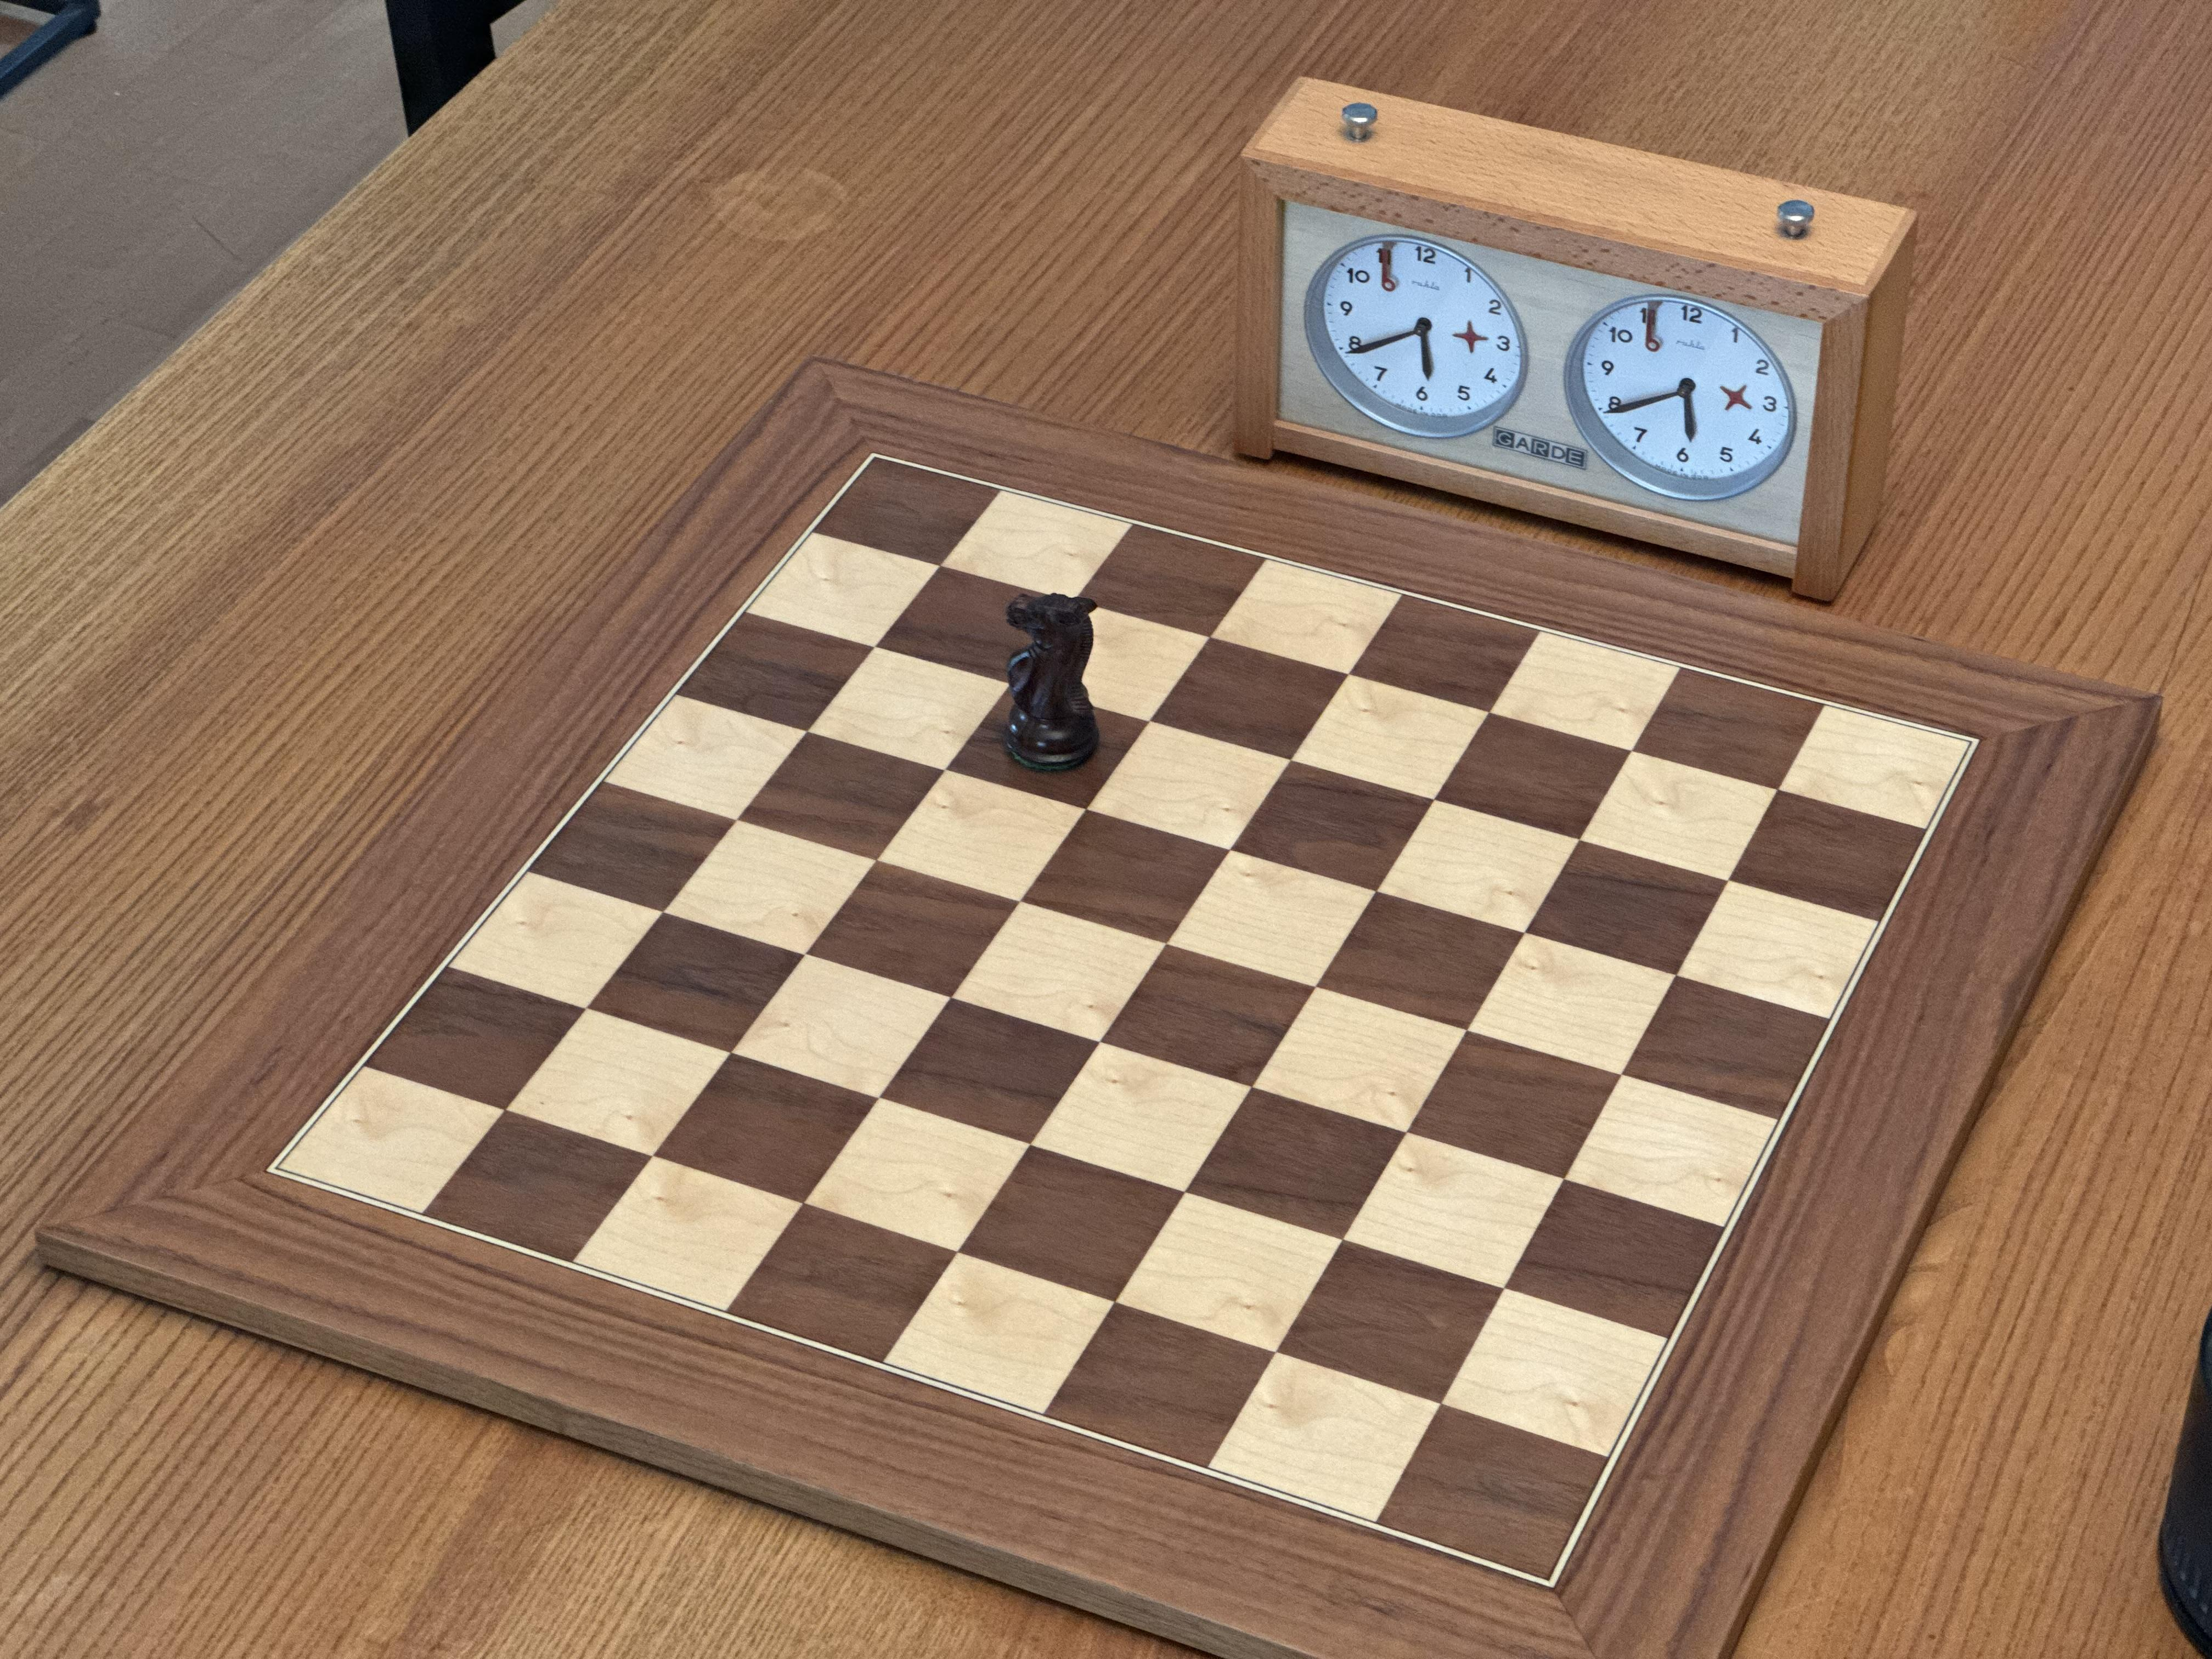Black Knight: (995, 582, 1104, 774)
